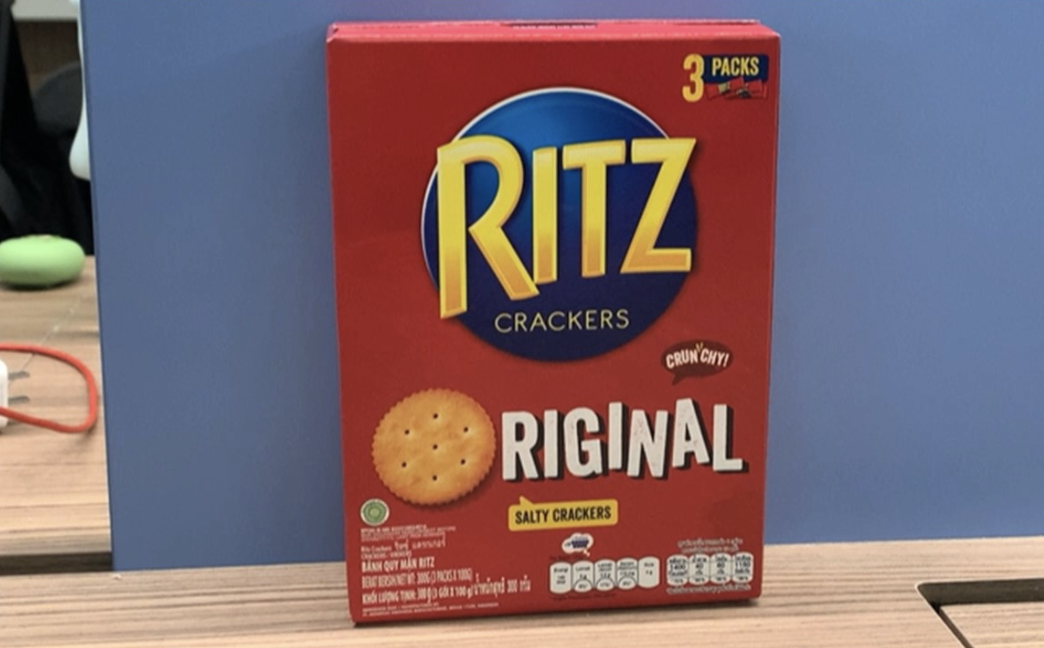crackers_300g-399g: (357, 46, 766, 596)
